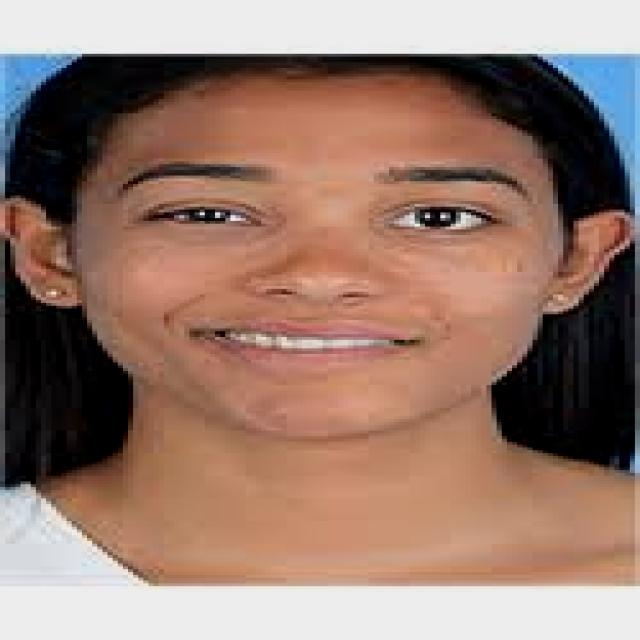stroke_face: (55, 60, 625, 438)
